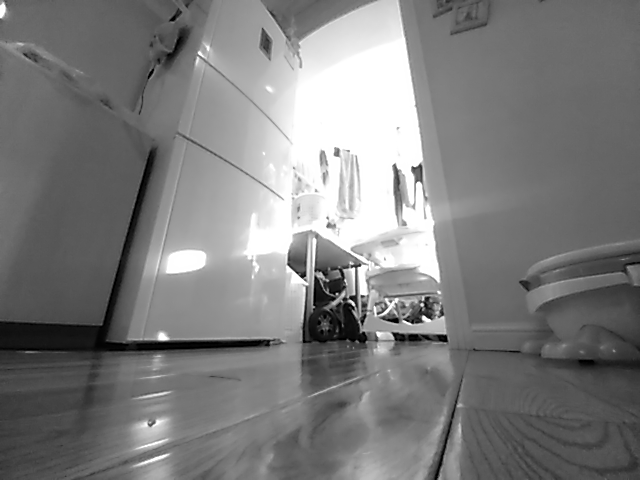toy: (520, 237, 640, 366)
